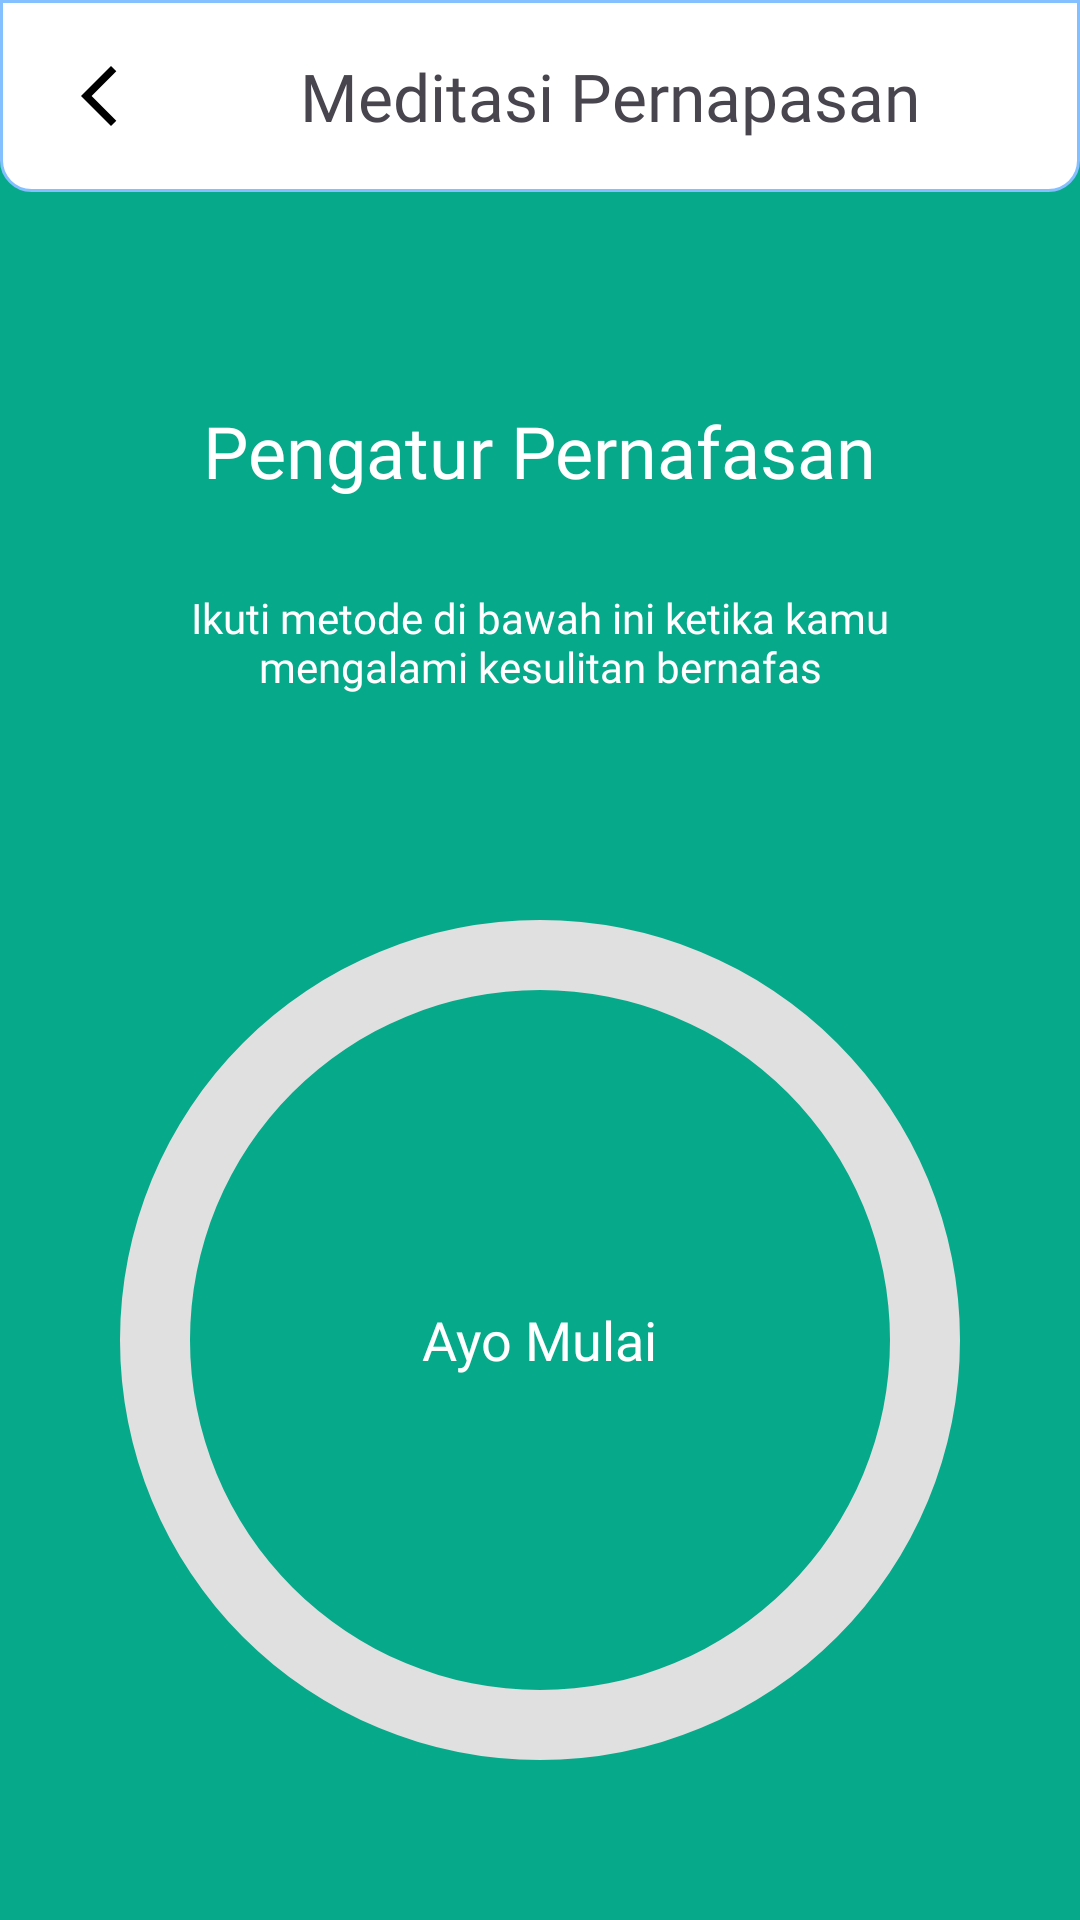

Icons on this 1080x1920 Android screen, each with the point to tap as (x,y):
kembali: (98,96)
